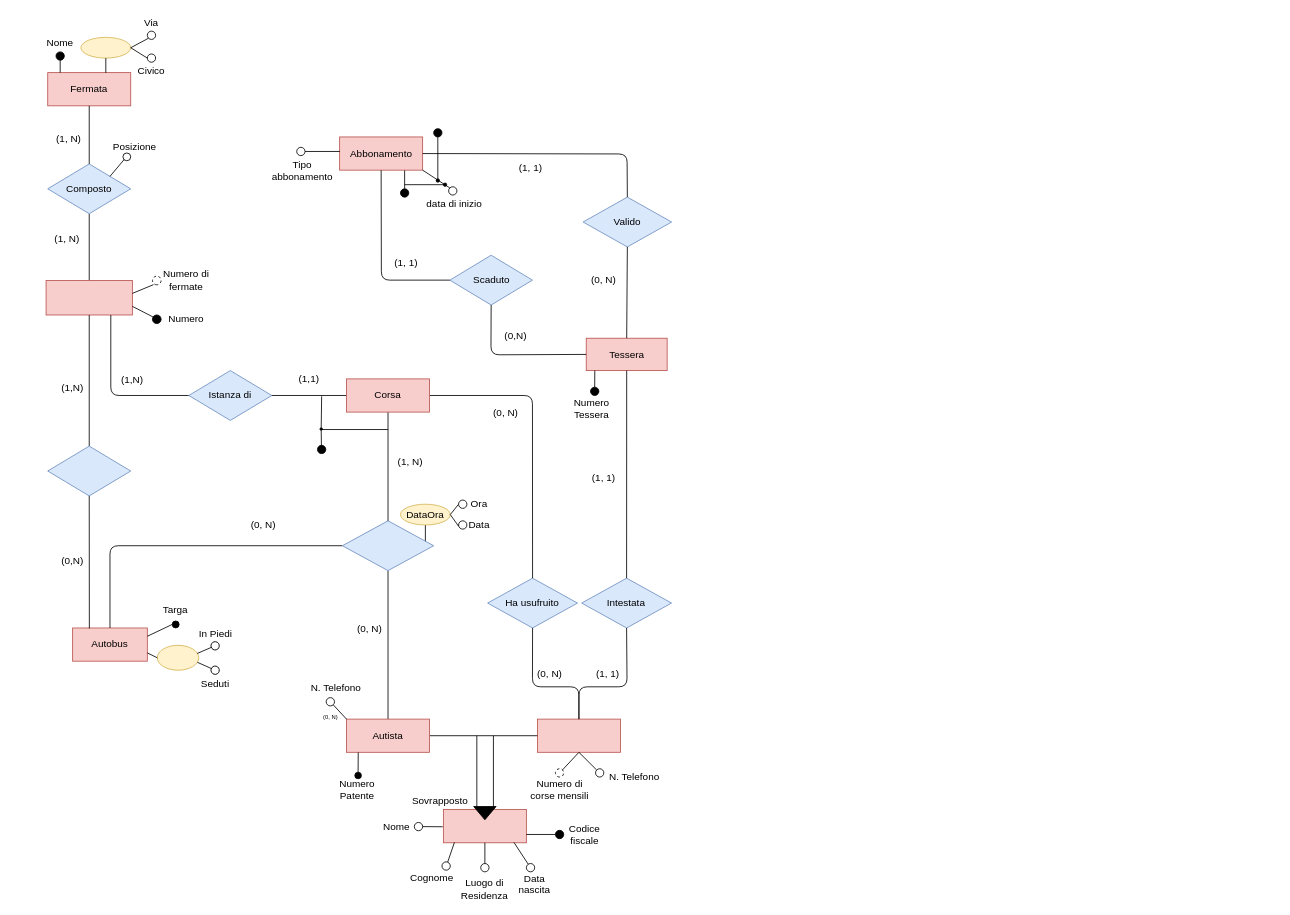
Some shapes in this 1290 by 915 pixel diagram are drawn without their labels. Here are the shapes that lost their labels. From the top down, the box of each, then its label:
(80, 37, 131, 58): Indirizzo
(45, 280, 132, 315): Linea di trasporto urbano
(47, 445, 131, 496): Servita da
(342, 520, 434, 571): Ha eseguito
(156, 644, 199, 670): N.Posti
(537, 718, 620, 752): Cliente
(443, 809, 526, 843): Persona
